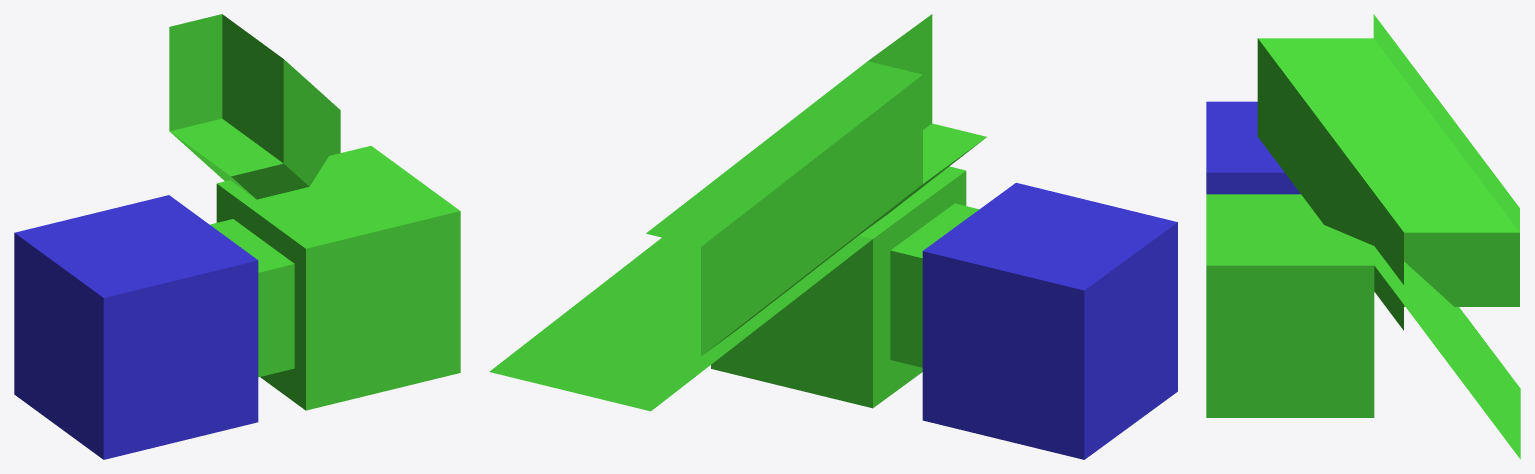
3 views of the same model, side by side, from view 1: azimuth 30°, elevation 25°; view 2: azimuth 150°, elevation 25°; view 3: azimuth 270°, elevation 25° (orthographic). The views are drawn at different scales.
Parts seen in each view (by area): view 1: Cube.001, Cube; view 2: Cube.001, Cube; view 3: Cube.001, Cube.
Part boxes in pixels (<box>): Cube.001: <box>169,14,460,410</box>; Cube: <box>14,195,258,459</box>; Cube.001: <box>489,14,986,411</box>; Cube: <box>922,182,1177,459</box>; Cube.001: <box>1206,14,1520,459</box>; Cube: <box>1206,101,1300,194</box>.
Size of the model in its own units: 6.35 by 3.74 by 4.08.
